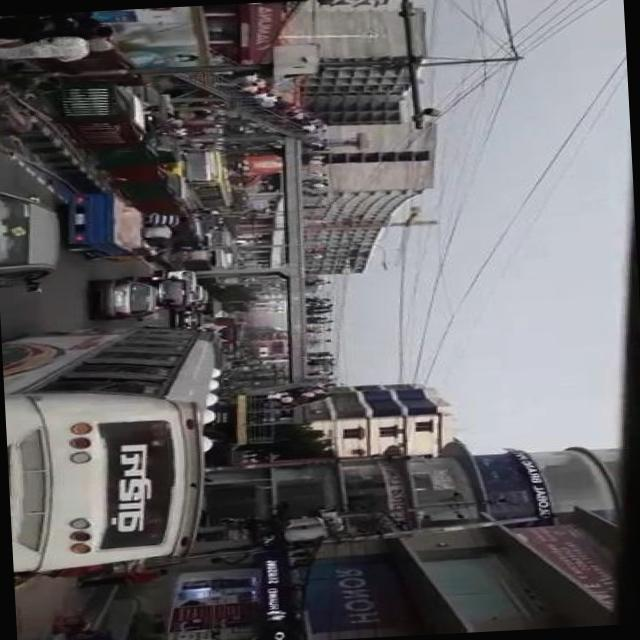bus: (4, 324, 231, 576), (174, 148, 236, 214), (215, 318, 242, 344), (211, 230, 238, 254)
car: (0, 188, 67, 291), (64, 87, 149, 146), (96, 280, 158, 324), (128, 84, 169, 132), (164, 269, 200, 293), (176, 311, 207, 332)
motorcycle: (148, 134, 184, 167)
truck: (66, 191, 175, 266), (129, 274, 193, 313)
